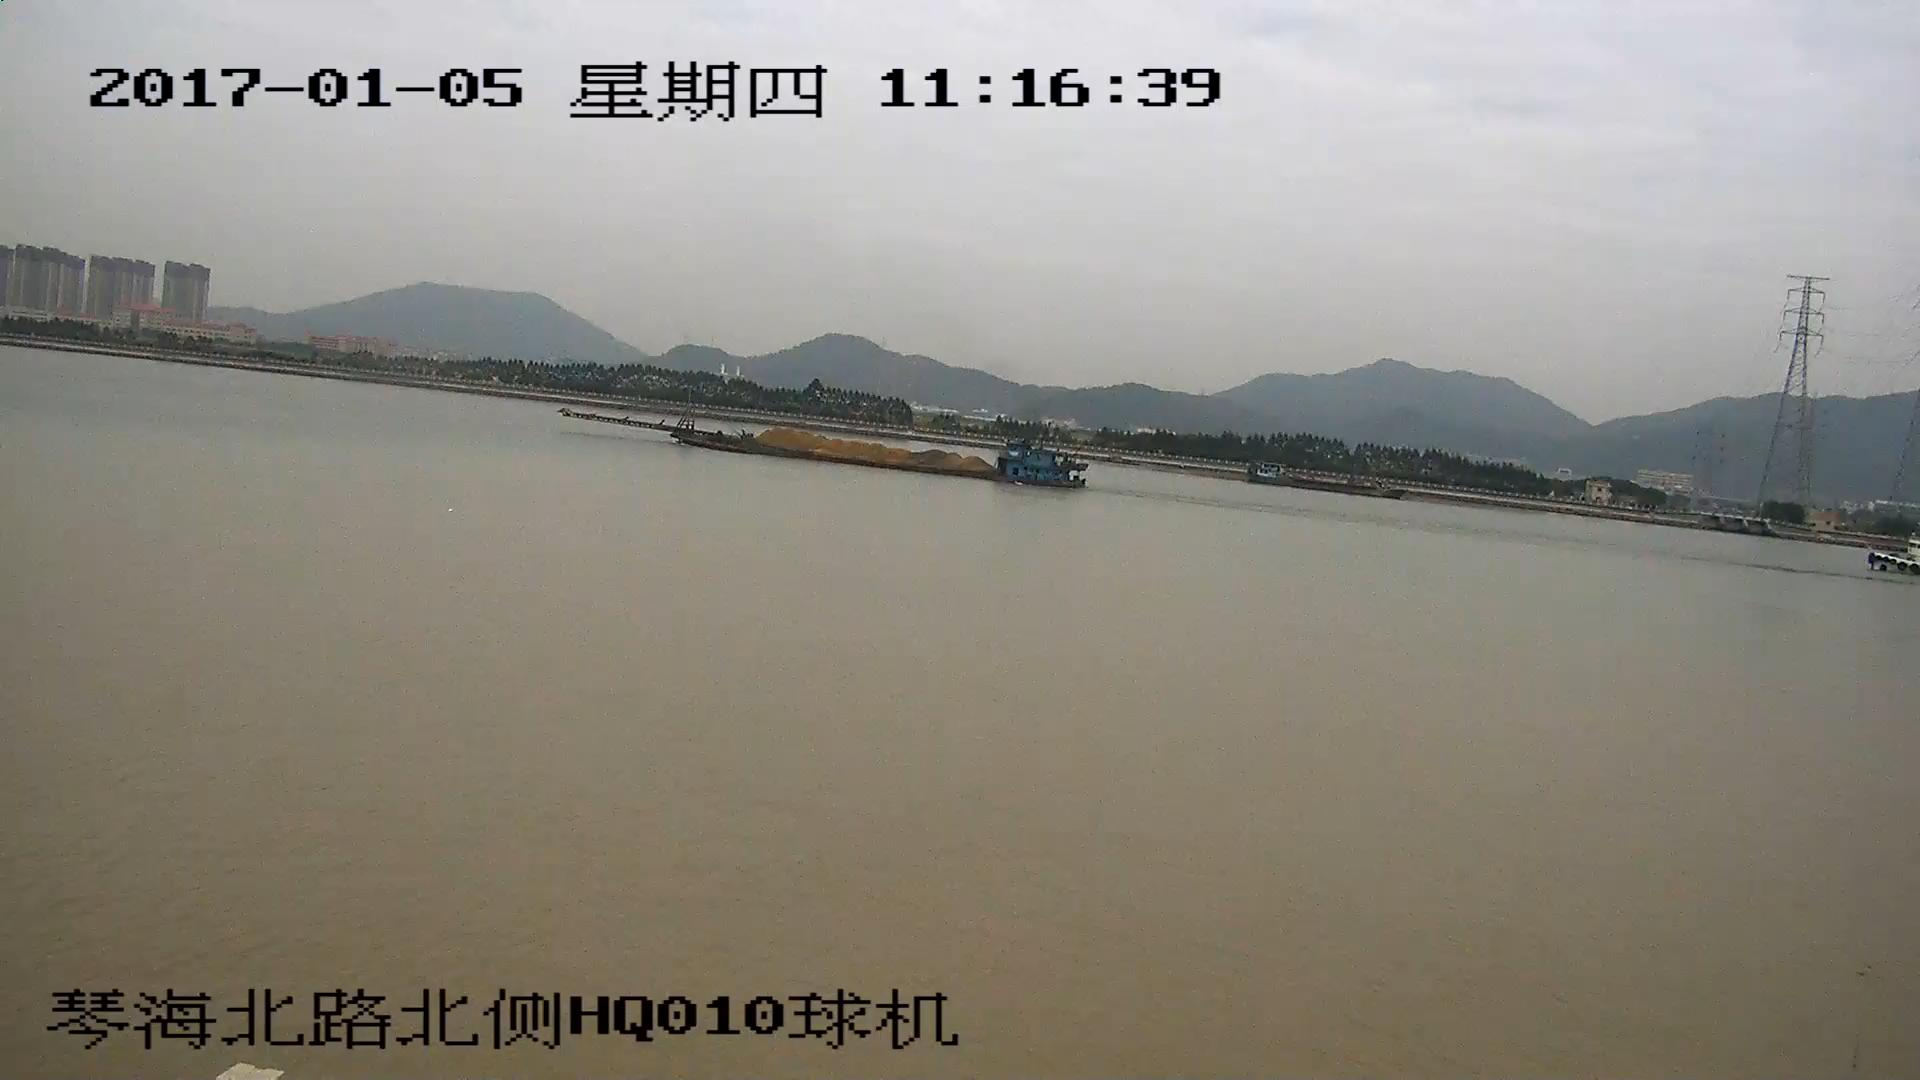ore carrier: (567, 402, 1072, 482)
